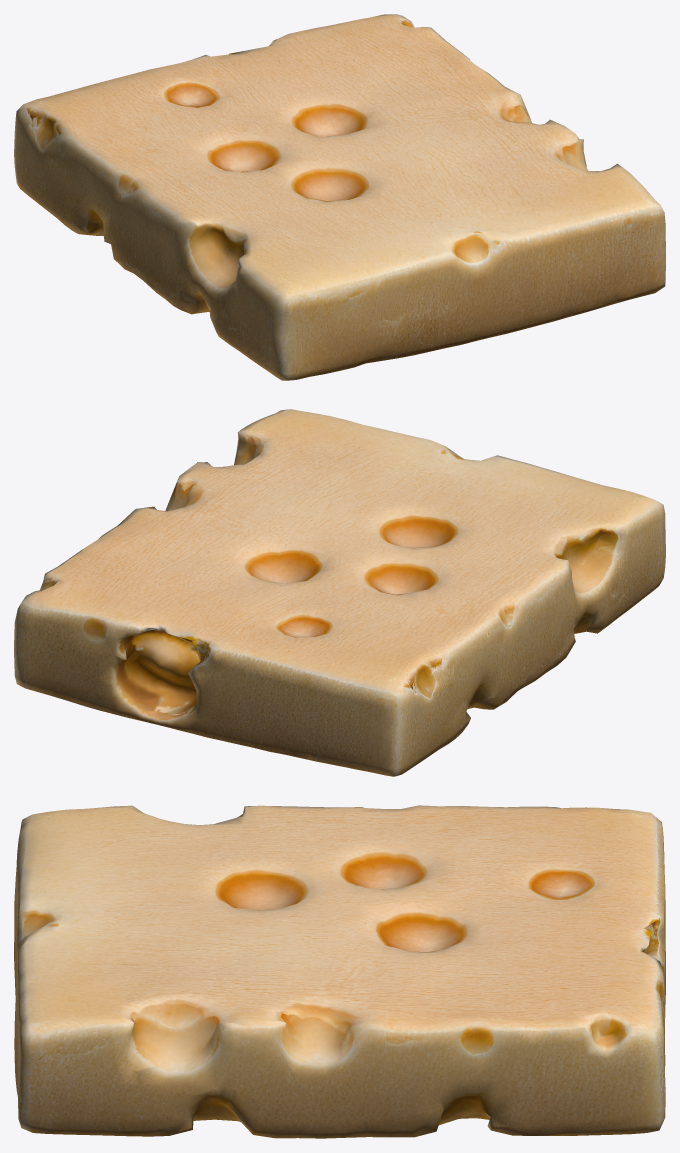
File: slice cheese.fbx
3 views of the same model, one above another, from view 1: azimuth 30°, elevation 25°; view 2: azimuth 150°, elevation 25°; view 3: azimuth 270°, elevation 25° (orthographic). The views are drawn at different scales.
Parts seen in each view (by area): view 1: texture_mapping; view 2: texture_mapping; view 3: texture_mapping.
Boxes of the visible parts, x1,y1,x2,y2 form: texture_mapping: (14, 14, 665, 380); texture_mapping: (14, 409, 665, 776); texture_mapping: (14, 805, 665, 1138).
Bounding box in the file's own units: 0.822 × 0.9939 × 0.211.
1 material, 1 textured.
